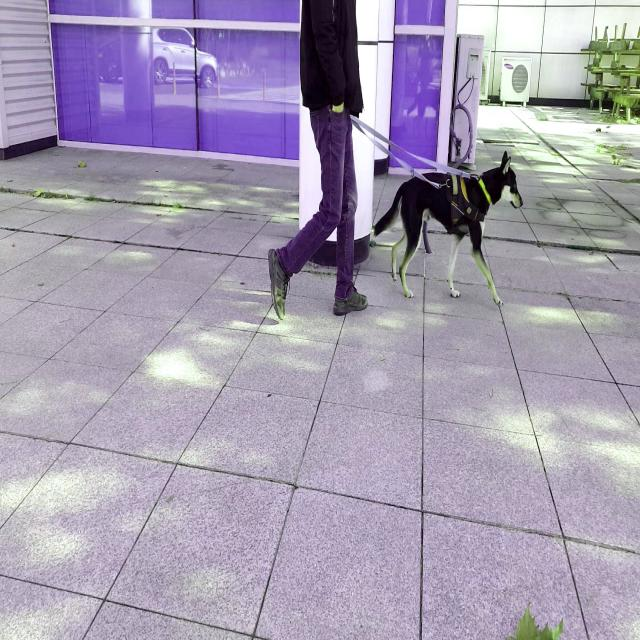Leashed_Dog: (333, 102, 522, 306)
